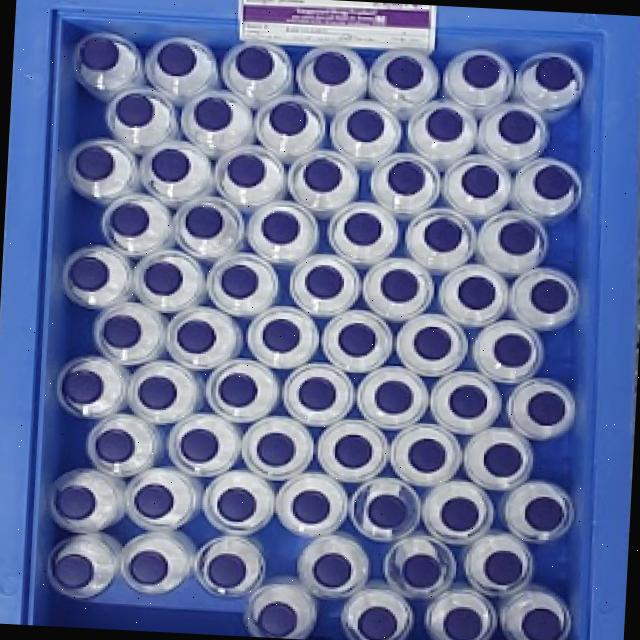vials: (256, 602, 298, 638), (61, 370, 104, 404), (69, 256, 109, 292), (373, 380, 414, 414), (53, 554, 94, 588), (220, 264, 259, 299), (217, 487, 256, 522), (151, 148, 191, 182), (95, 429, 135, 463), (483, 443, 523, 477), (55, 486, 95, 520), (128, 551, 168, 585), (76, 145, 114, 180), (221, 264, 259, 299), (135, 484, 173, 519), (313, 553, 351, 588), (424, 218, 463, 252), (305, 265, 344, 299), (380, 269, 419, 303), (449, 385, 488, 419), (525, 497, 564, 531), (402, 554, 441, 588), (484, 551, 523, 585), (521, 608, 562, 640), (408, 438, 445, 473), (158, 42, 196, 76), (236, 46, 274, 80), (313, 51, 351, 85), (304, 158, 342, 192), (344, 212, 382, 246), (338, 323, 376, 357), (262, 319, 300, 353), (219, 373, 257, 407), (298, 377, 336, 411), (531, 279, 569, 313), (494, 334, 532, 368), (527, 391, 565, 425), (334, 434, 372, 468), (208, 554, 246, 588), (115, 94, 154, 127), (193, 98, 232, 131), (387, 162, 426, 195), (534, 166, 573, 199), (111, 203, 150, 236), (261, 211, 300, 244), (177, 320, 216, 353), (102, 315, 141, 348), (256, 433, 295, 466), (368, 495, 407, 528), (358, 607, 397, 640), (386, 56, 423, 90), (426, 107, 463, 141), (499, 221, 536, 255), (81, 37, 119, 70), (462, 55, 500, 88), (536, 57, 574, 90), (461, 165, 499, 198), (228, 154, 266, 187), (185, 206, 223, 239), (144, 262, 182, 295), (138, 376, 176, 409), (441, 498, 479, 531), (270, 102, 307, 135), (347, 109, 384, 142), (499, 111, 536, 144), (181, 429, 218, 462), (292, 491, 330, 523), (443, 608, 481, 640), (458, 277, 495, 309), (414, 327, 451, 359)
